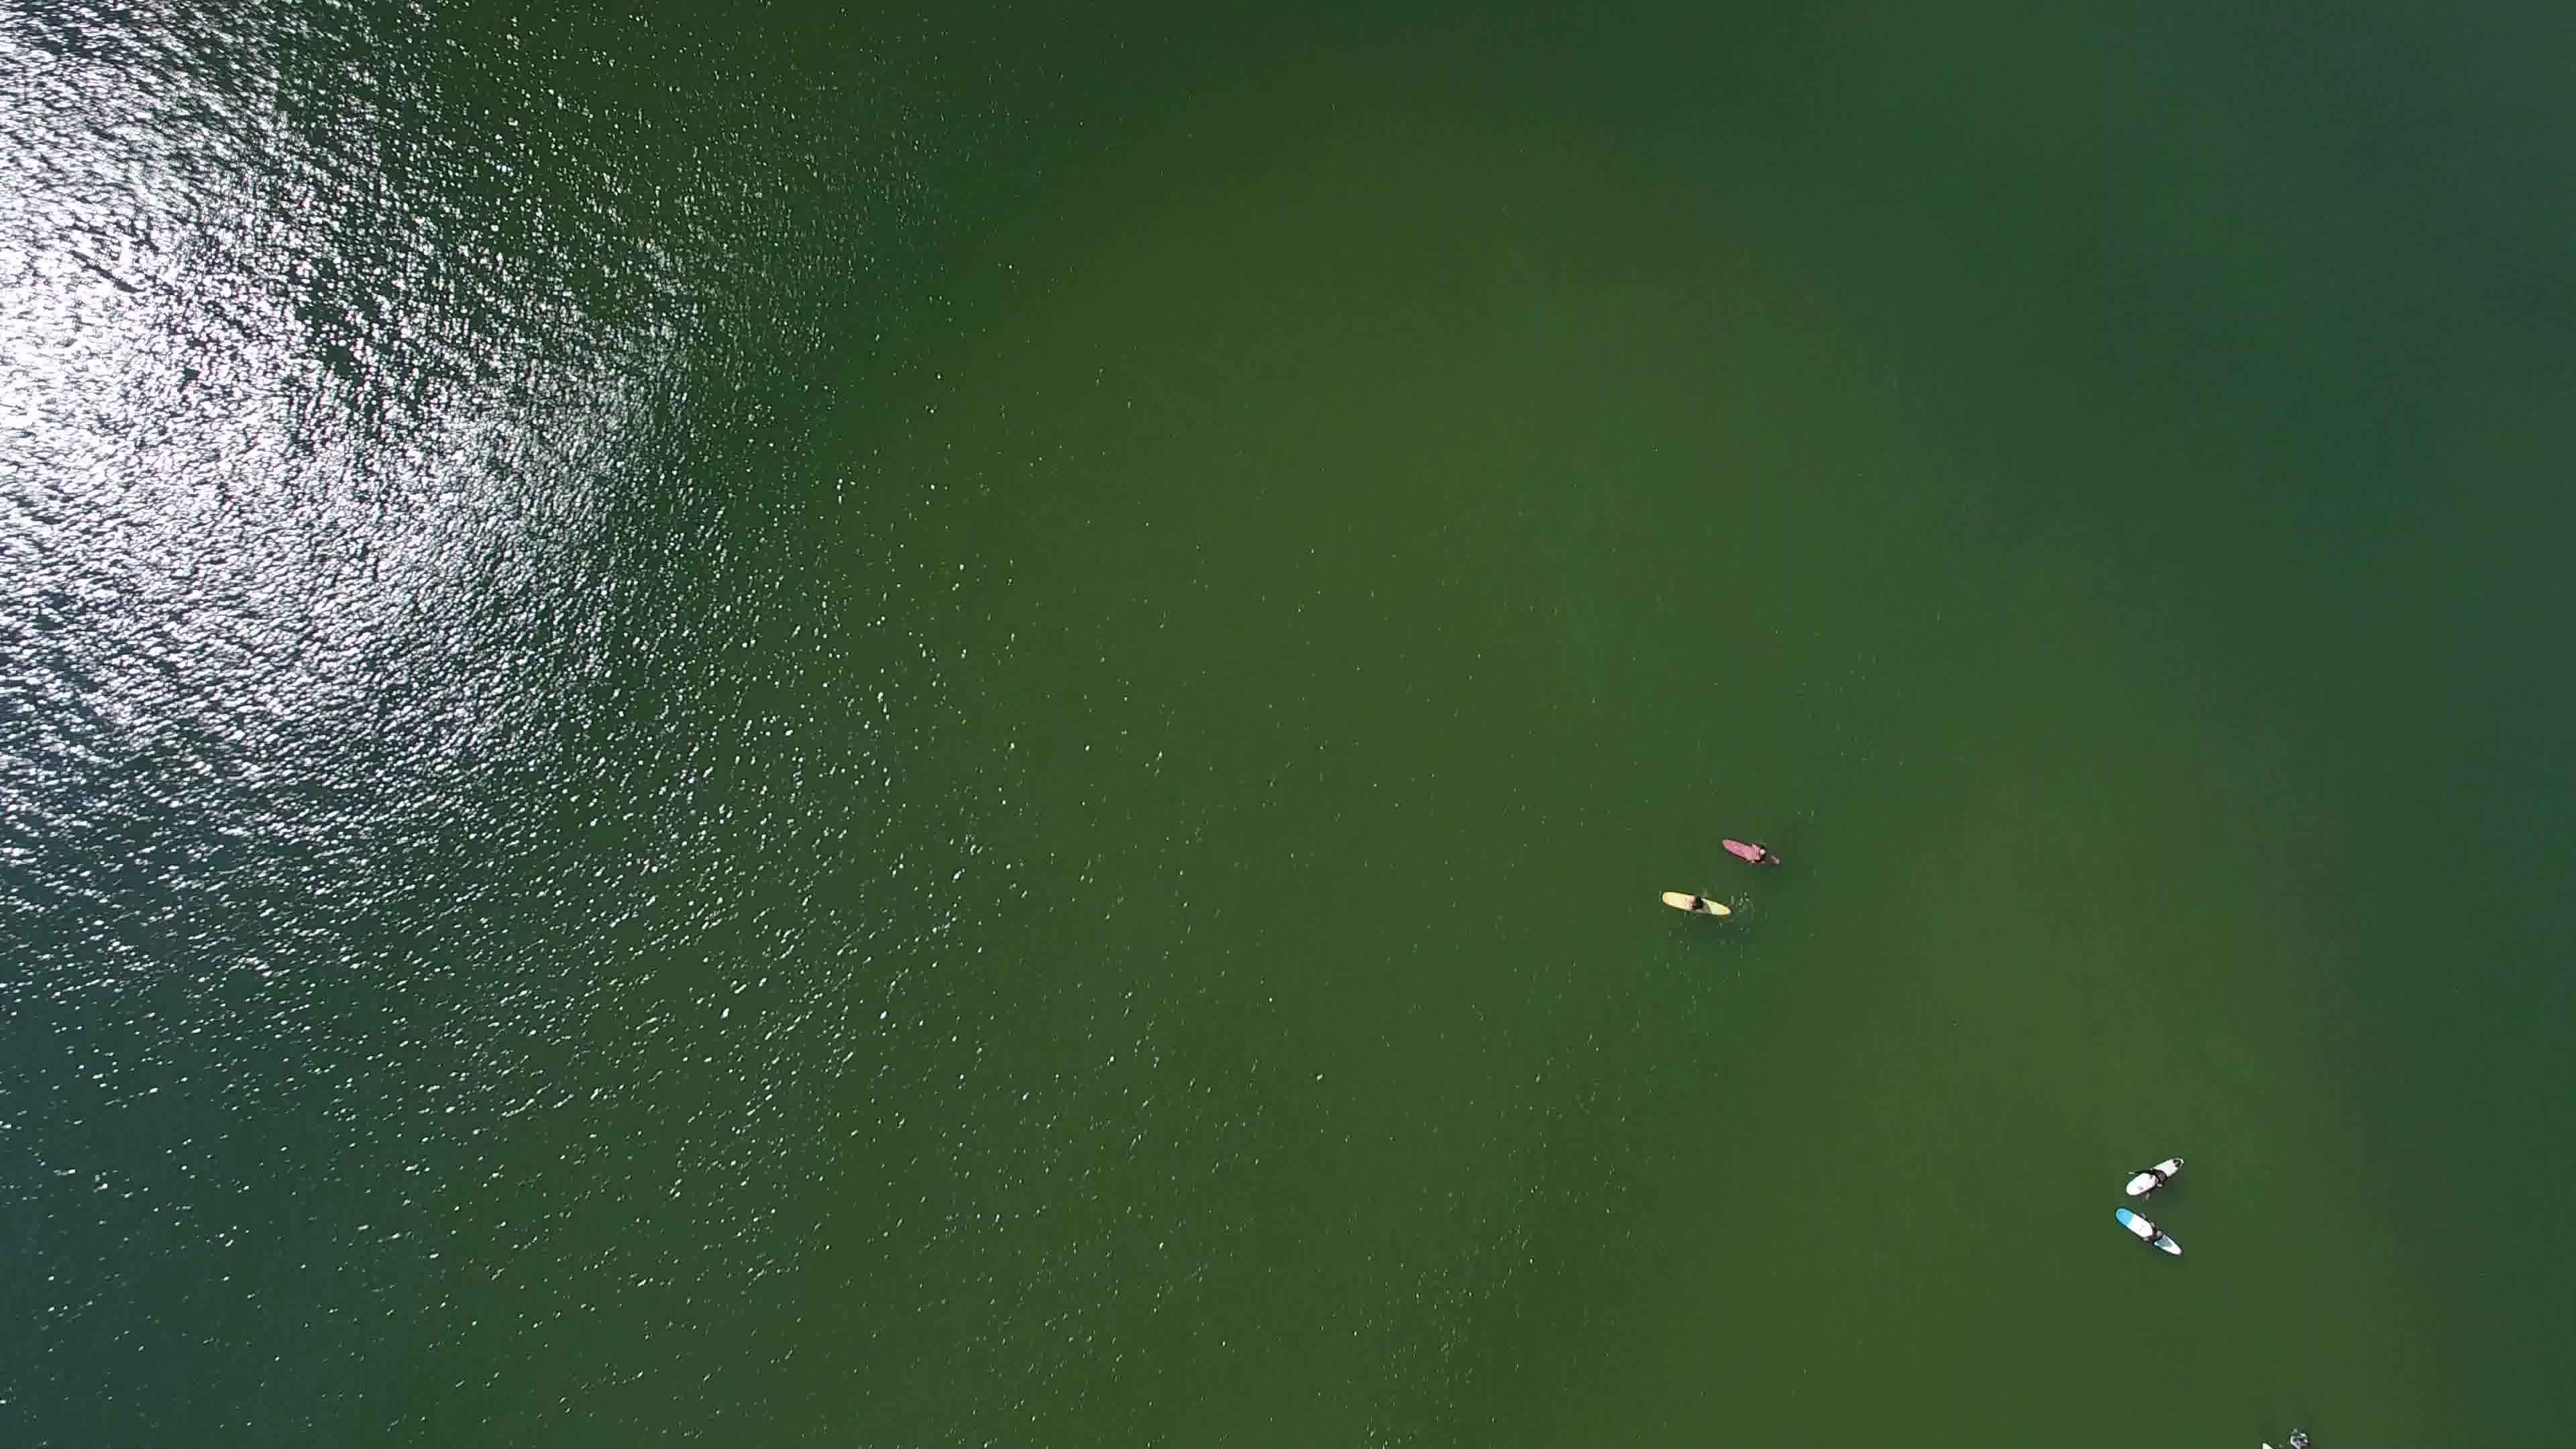surfer: (2105, 1205, 2187, 1269), (1709, 823, 1787, 872), (2116, 1152, 2189, 1200), (1654, 885, 1737, 925), (2247, 1424, 2302, 1449)
